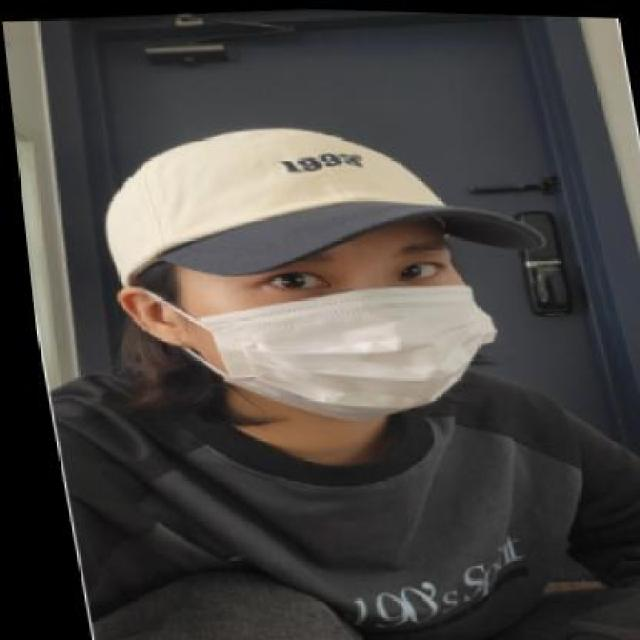hat: (77, 100, 549, 292)
